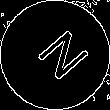N_SW: (23, 23, 87, 87)
